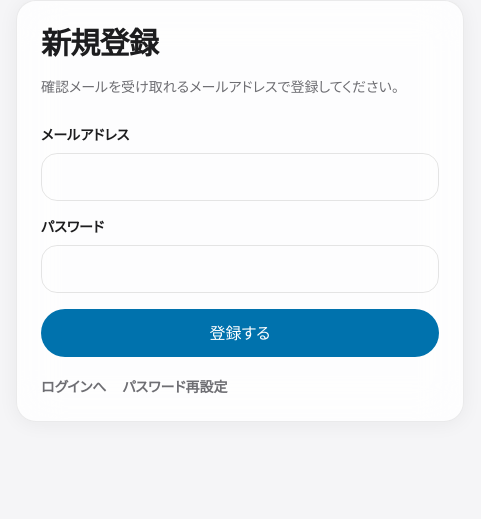
AuthForm › does not send a signup email when the email is already registered
Type "existing@example.com" into the field labelled "メールアドレス" at (240, 177), box [41,153,439,201]
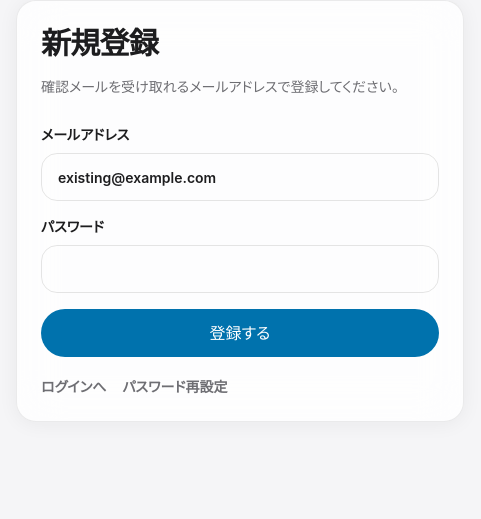
Type "password123" into the password field labelled "パスワード" at (240, 269), box [41,245,439,293]
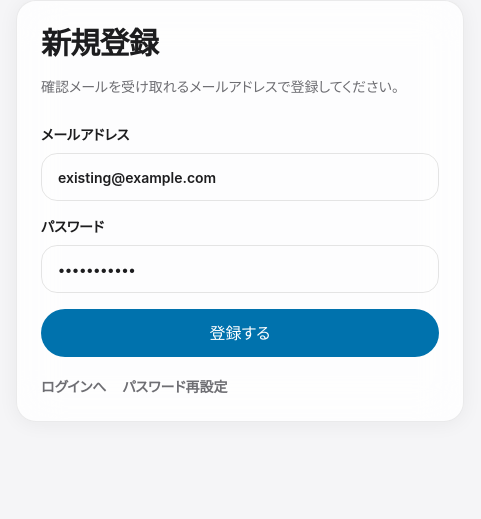
Submit the form "登録する", box [41,125,439,357]
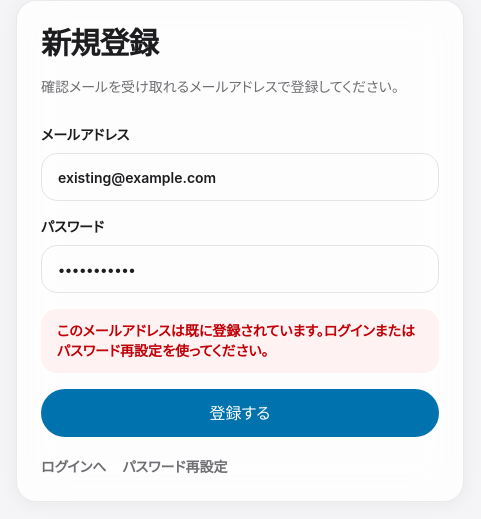
Expected: the text "このメールアドレスは既に登録されています。ログインまたはパスワード再設定を使ってください。" is shown, [41,309,439,373]
